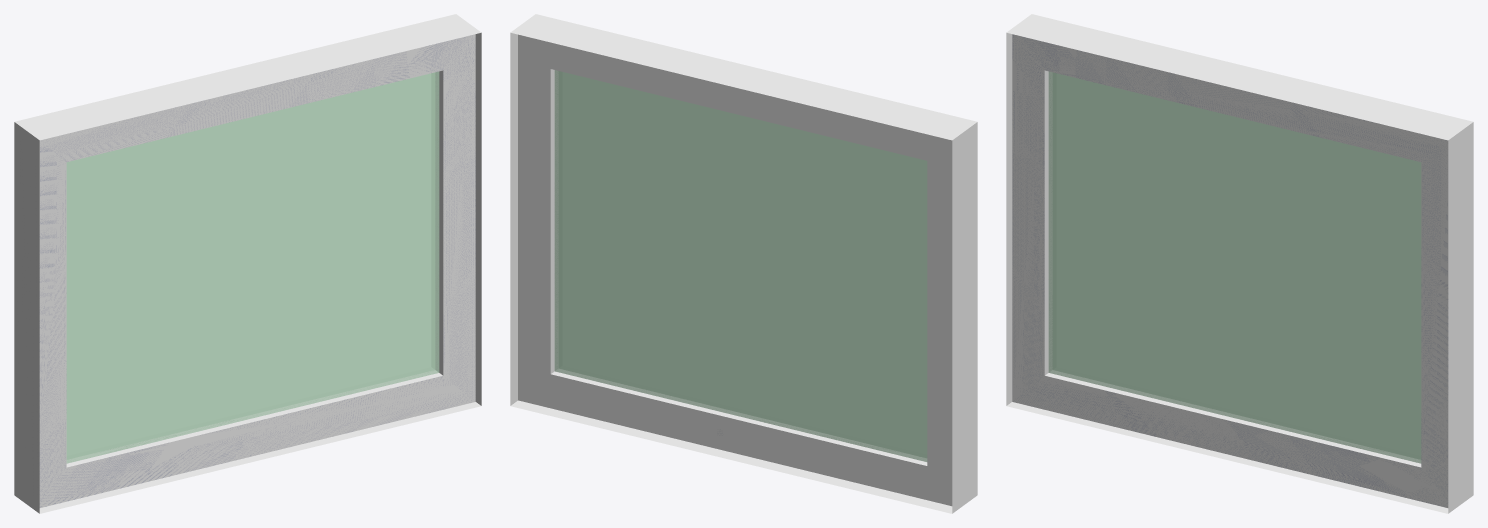
3 views of the same model, side by side, from view 1: azimuth 30°, elevation 25°; view 2: azimuth 150°, elevation 25°; view 3: azimuth 330°, elevation 25° (orthographic).
Parts seen in each view (by area): view 1: SketchUp.071, SketchUp.072, SketchUp.069, SketchUp.075, SketchUp.068, SketchUp.074; view 2: SketchUp.072, SketchUp.071, SketchUp.075, SketchUp.073, SketchUp.074; view 3: SketchUp.071, SketchUp.072, SketchUp.069, SketchUp.075, SketchUp.068, SketchUp.074.
Part boxes in pixels (left/top/right/bottom): SketchUp.071: left=66, top=71, right=439, bottom=463; SketchUp.072: left=67, top=73, right=434, bottom=458; SketchUp.069: left=39, top=34, right=475, bottom=507; SketchUp.075: left=14, top=14, right=481, bottom=513; SketchUp.068: left=66, top=70, right=443, bottom=467; SketchUp.074: left=67, top=72, right=438, bottom=463; SketchUp.072: left=554, top=70, right=927, bottom=461; SketchUp.071: left=559, top=71, right=926, bottom=457; SketchUp.075: left=510, top=14, right=977, bottom=513; SketchUp.073: left=550, top=69, right=927, bottom=465; SketchUp.074: left=555, top=70, right=926, bottom=461; SketchUp.071: left=1048, top=71, right=1421, bottom=463; SketchUp.072: left=1053, top=73, right=1420, bottom=458; SketchUp.069: left=1012, top=34, right=1448, bottom=507; SketchUp.075: left=1006, top=14, right=1473, bottom=513; SketchUp.068: left=1044, top=70, right=1421, bottom=467; SketchUp.074: left=1049, top=72, right=1420, bottom=463.
Bounding box in the file's own units: 1.3 × 0.13 × 1.05.
